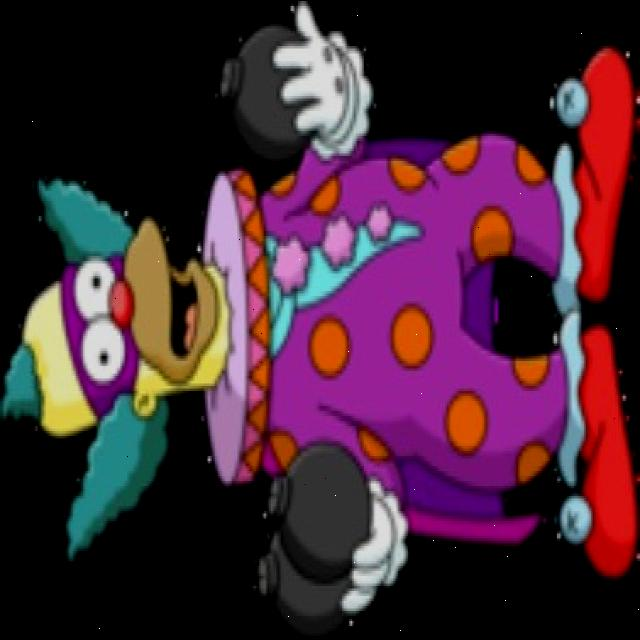Krusty the Clown: (2, 170, 228, 555)
